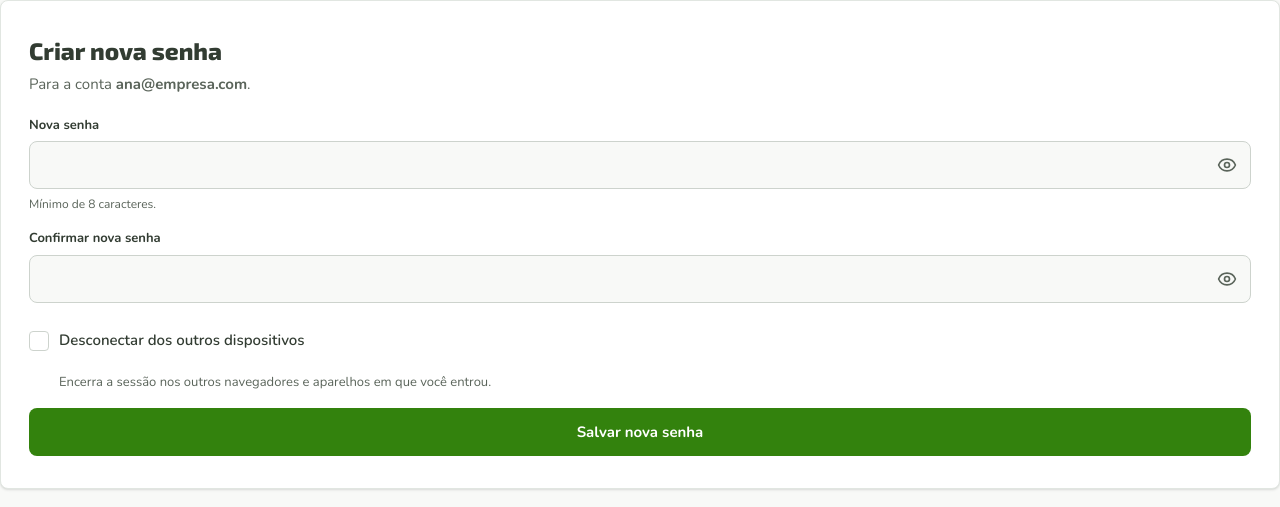
it: ResetPasswordForm › blocks a password shorter than 8 characters
Type "short12" into the password field labelled "Nova senha" at [640, 165], box top-left (29, 141), bottom-right (1251, 189)
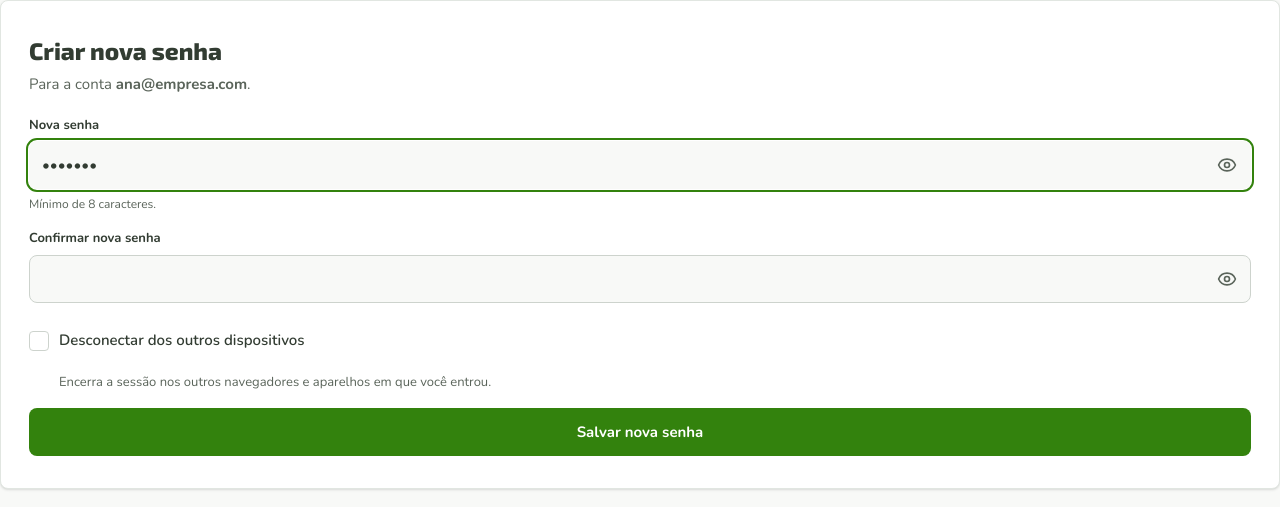
Type "short12" into the password field labelled "Confirmar nova senha" at [640, 278], box top-left (29, 254), bottom-right (1251, 302)
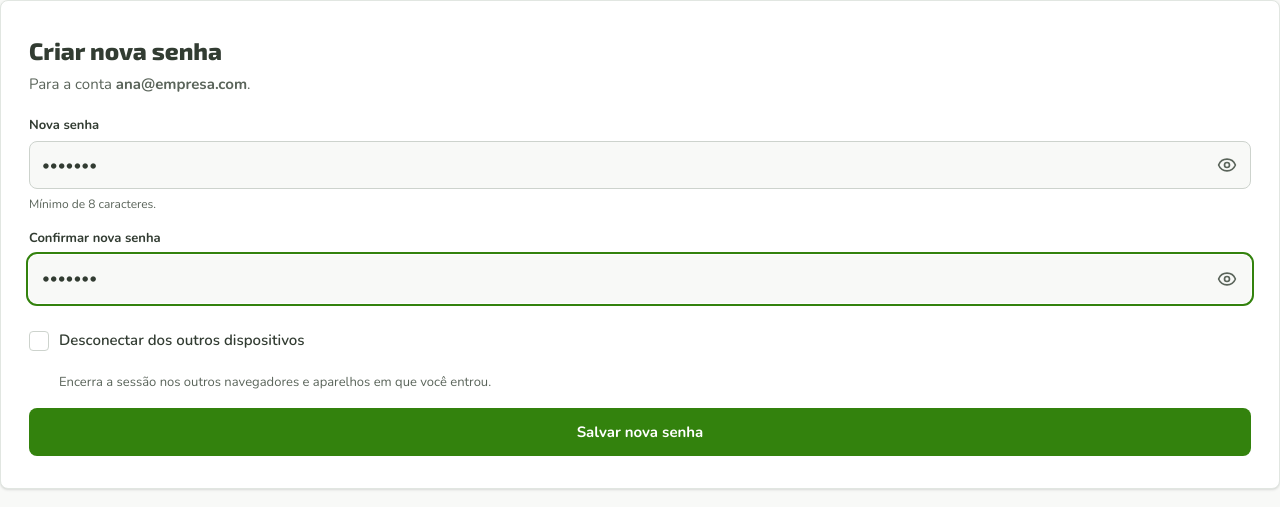
Click the button "Salvar nova senha" at [640, 432], box top-left (29, 408), bottom-right (1251, 456)
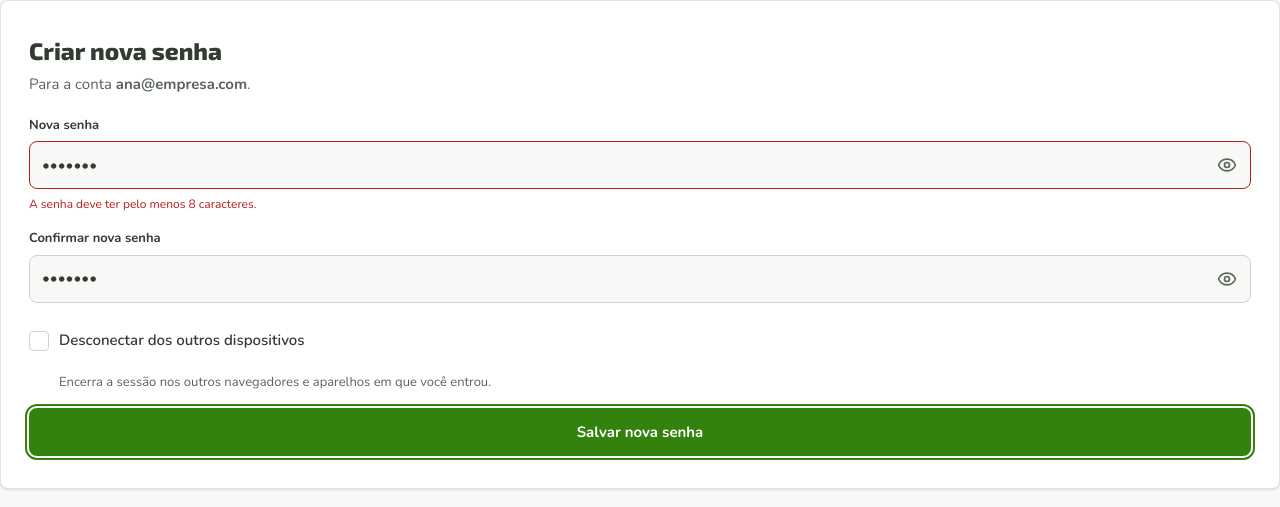
Check: the text "A senha deve ter pelo menos 8 caracteres." is shown, box top-left (29, 196), bottom-right (256, 212)
